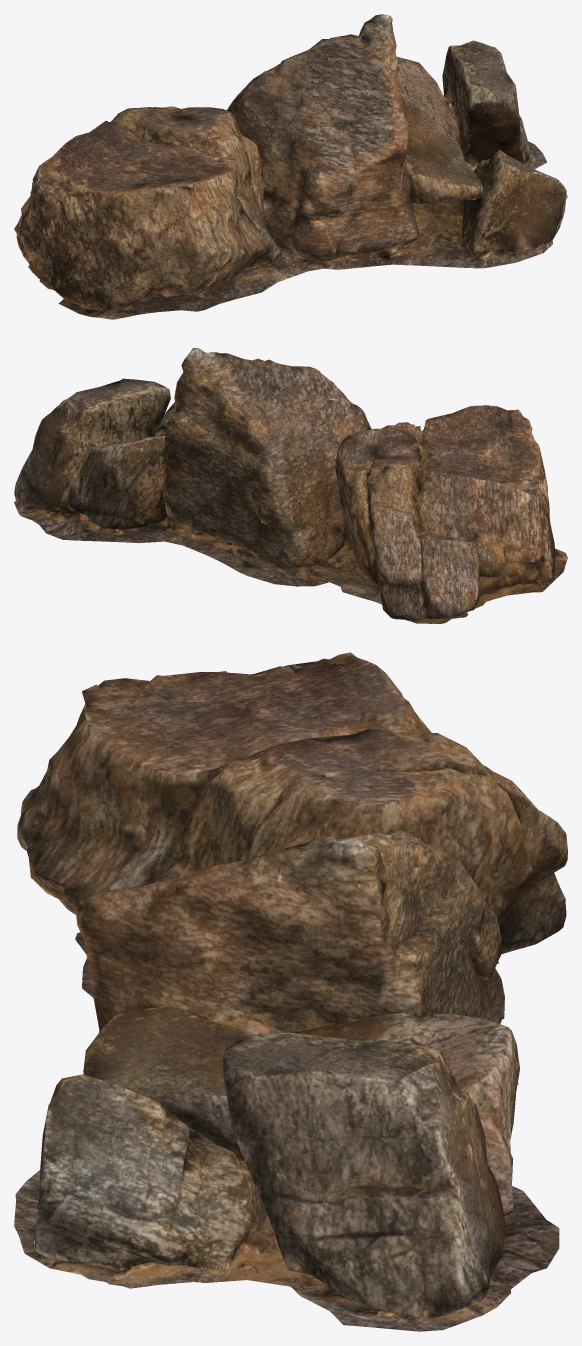
Rendered from namaqualand_boulder_02.glb.
The picture shows the model from 3 angles, top to bottom: view 1: azimuth 30°, elevation 25°; view 2: azimuth 150°, elevation 25°; view 3: azimuth 270°, elevation 25°; orthographic projection. The views are drawn at different scales.
Visible parts, largest first — view 1: boulder_02; view 2: boulder_02; view 3: boulder_02.
Part boxes in pixels (x1=…): boulder_02: x1=14, y1=14, x2=567, y2=319; boulder_02: x1=14, y1=348, x2=567, y2=623; boulder_02: x1=14, y1=652, x2=567, y2=1331.
Size of the model in its own units: 2.53 by 0.8805 by 1.23.
1 material, 1 textured.
